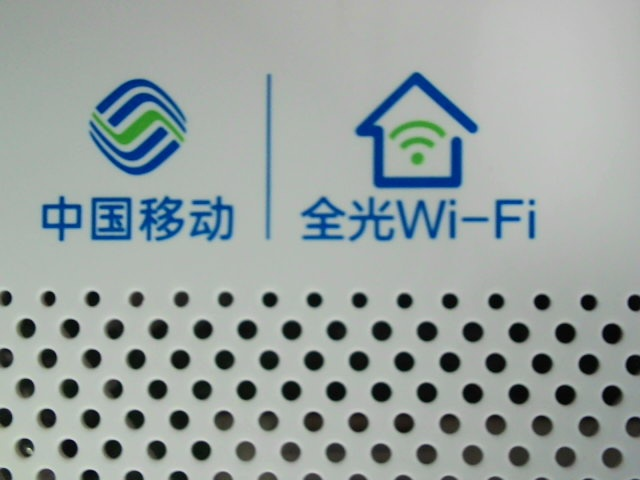BJ_QuanGuangMobile: (29, 67, 546, 251)
